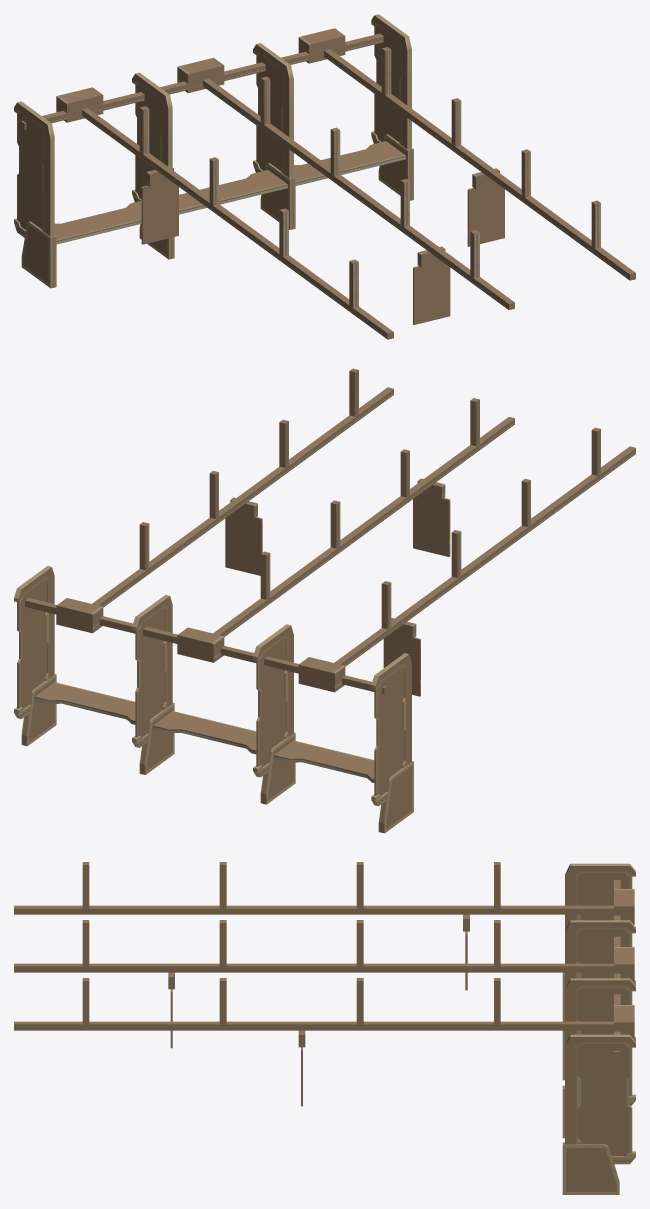
The model's file is SM_Env_Parts_Shoot_01.fbx.
3 renders of one model, top to bottom at view 1: azimuth 30°, elevation 25°; view 2: azimuth 150°, elevation 25°; view 3: azimuth 270°, elevation 25°, orthographic.
Parts seen in each view (by area): view 1: SM_Env_Parts_Shoot_01; view 2: SM_Env_Parts_Shoot_01; view 3: SM_Env_Parts_Shoot_01.
Boxes of the visible parts, x1,y1,x2,y2 form: SM_Env_Parts_Shoot_01: (14,14,635,339); SM_Env_Parts_Shoot_01: (14,368,635,833); SM_Env_Parts_Shoot_01: (14,862,635,1194).
Size of the model in its own units: 600 by 907 by 300.
1 material, 1 textured.
